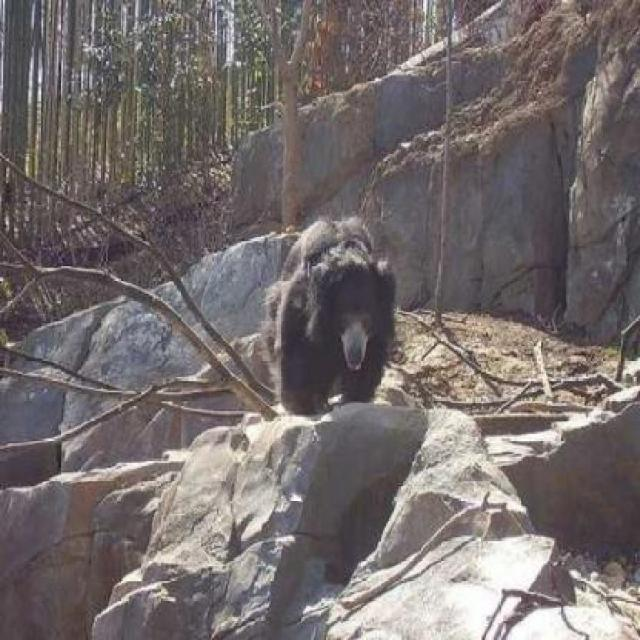Bear: (279, 212, 450, 443)
